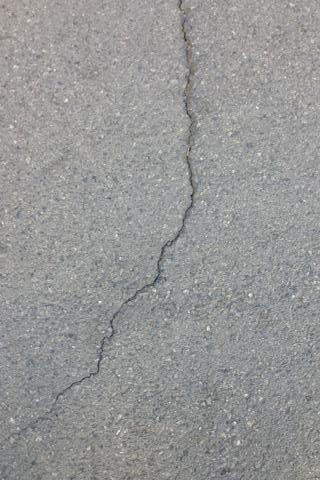A: (25, 1, 199, 440)
